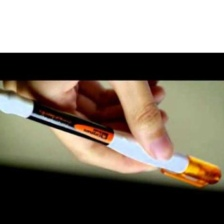correction_fluid: (0, 82, 223, 188)
